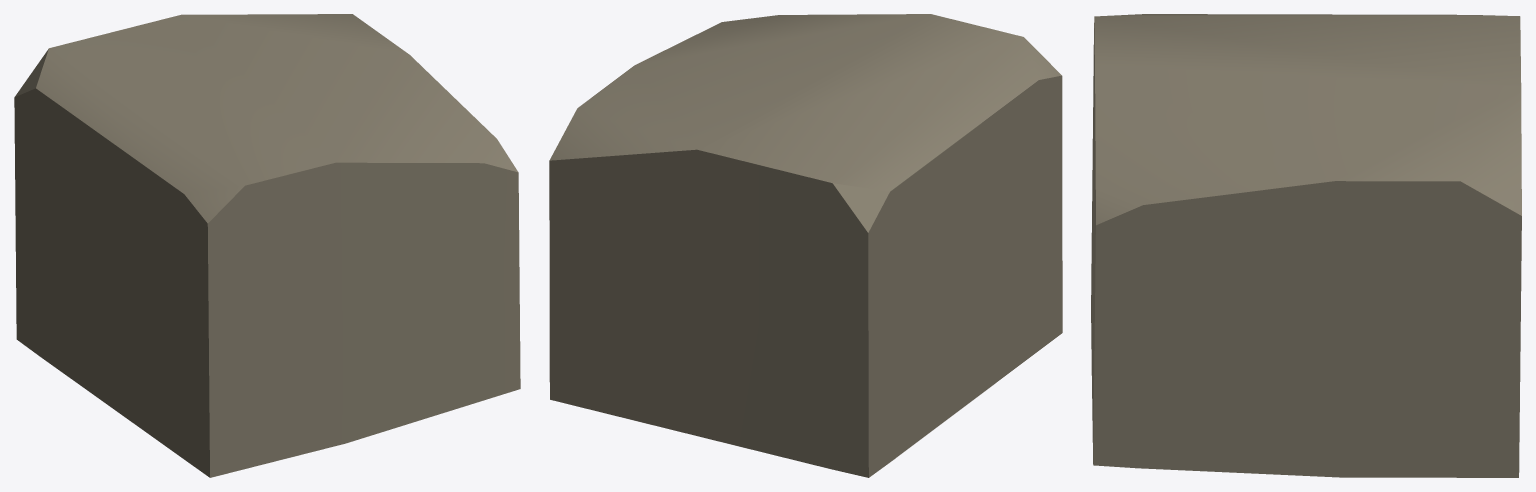
Rendered from Dalle03.fbx.
The picture shows the model from 3 angles, left to right: view 1: azimuth 30°, elevation 25°; view 2: azimuth 150°, elevation 25°; view 3: azimuth 270°, elevation 25°; orthographic projection. The views are drawn at different scales.
Parts seen in each view (by area): view 1: Dalle03; view 2: Dalle03; view 3: Dalle03.
Part boxes in pixels (box(x1,y1,x2,y2)): Dalle03: box(14, 14, 520, 477); Dalle03: box(549, 14, 1062, 477); Dalle03: box(1091, 14, 1521, 477).
Bounding box in the file's own units: 32.43 × 28.07 × 34.69.
